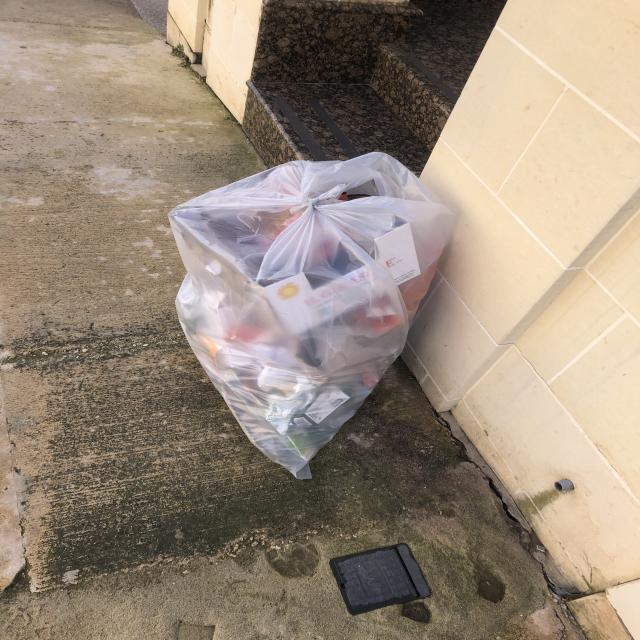Organic Waste -White Bag-: (163, 149, 455, 476)
